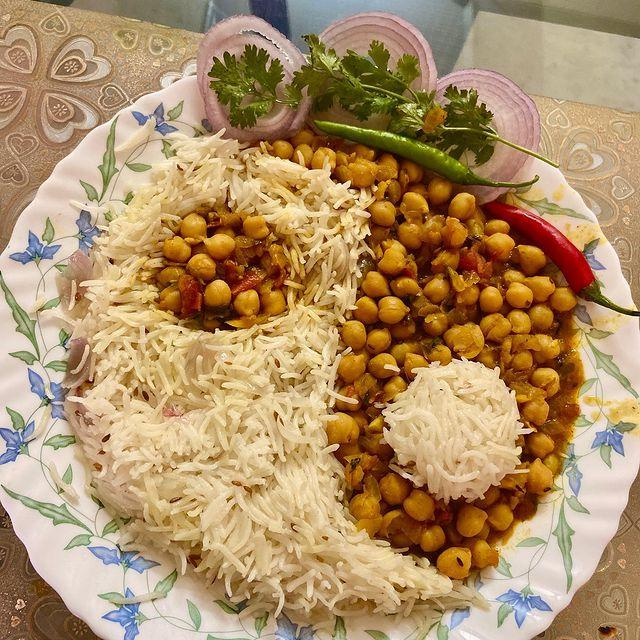Chole: (353, 208, 554, 379)
